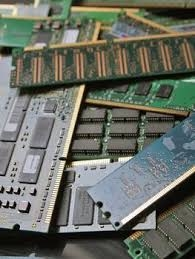metal: (81, 105, 195, 233), (6, 30, 195, 89), (120, 178, 195, 259)
